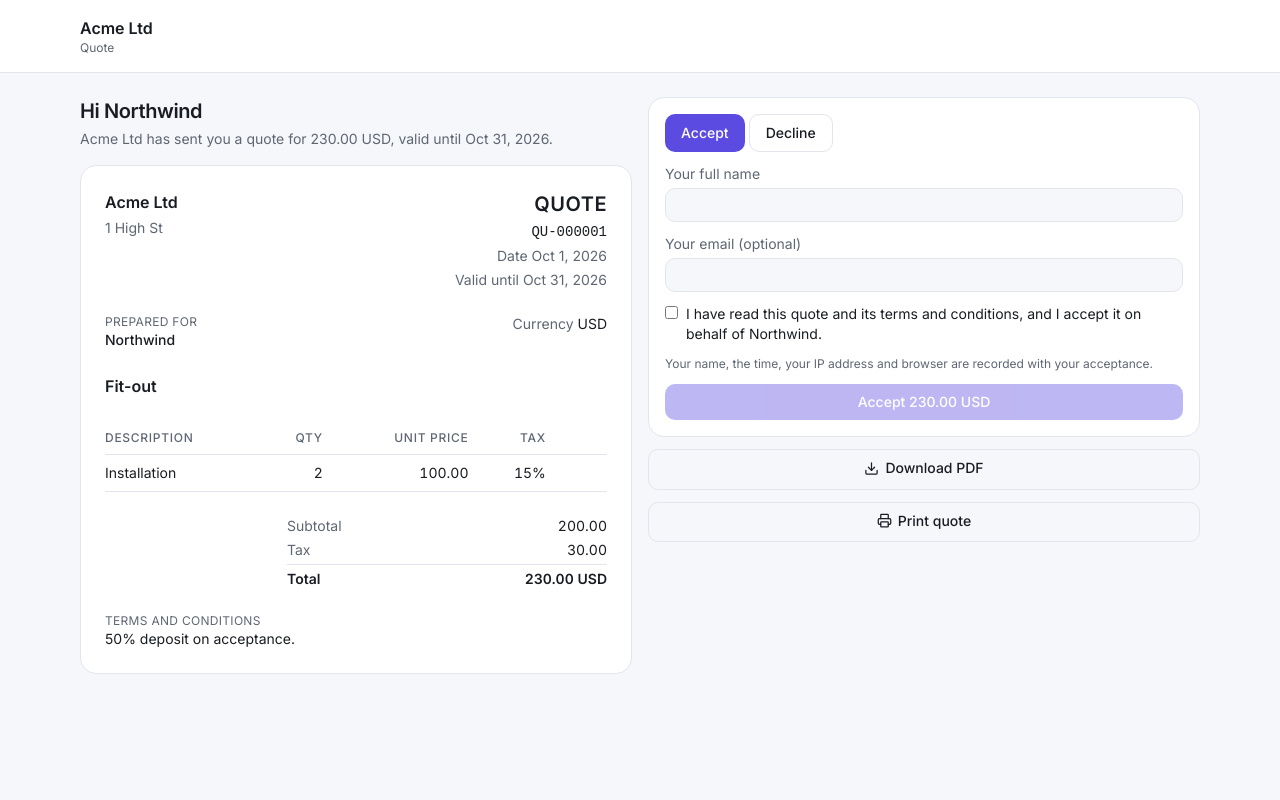
Test case: PublicQuotePage › accepts only with a typed name and ticked terms, sending the content fingerprint
Expected: the heading "Hi Northwind" is shown, [80,99,202,123]
Expected: the text with test id "quote-terms" reads "50% deposit on acceptance.", [105,630,295,647]
Type "Jane Doe" into the field labelled "Your full name".
click(924, 205); type("Jane Doe")  # box [665,188,1183,222]
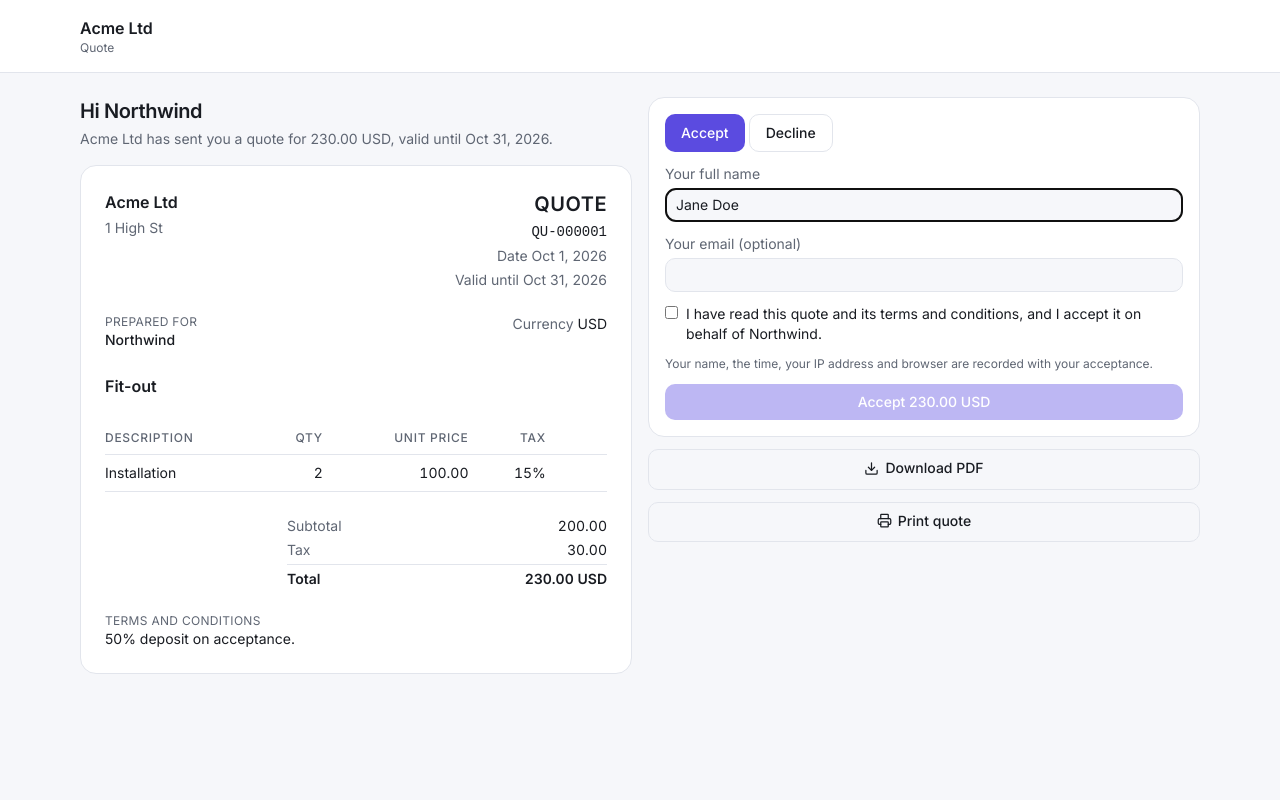
Expected: the button "Accept 230.00 USD" is disabled, [665,384,1183,420]
Click the checkbox.
click(672, 312)  # box [665,306,678,319]
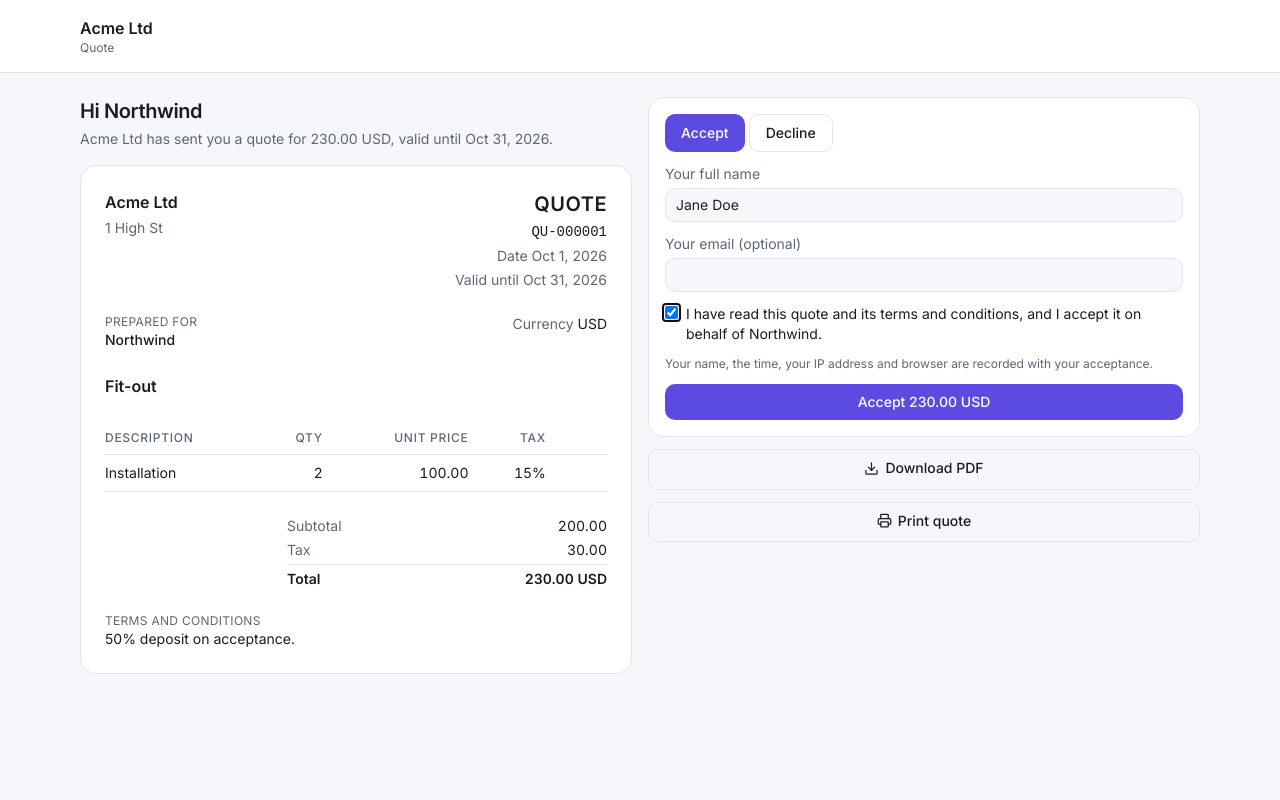
Expected: the button "Accept 230.00 USD" is enabled
Click the button "Accept 230.00 USD".
click(924, 402)  # box [665,384,1183,420]
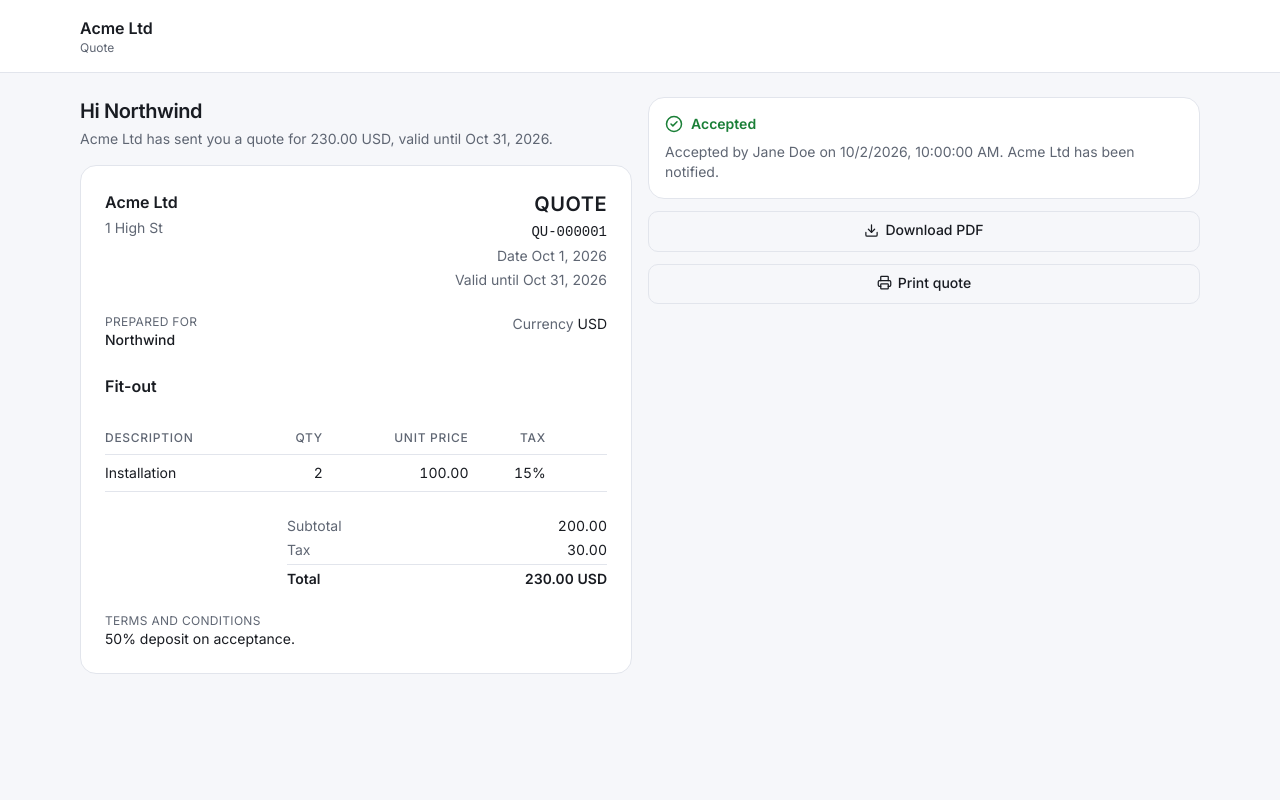
Expected: the text "Accepted" is shown, [665,115,756,133]
